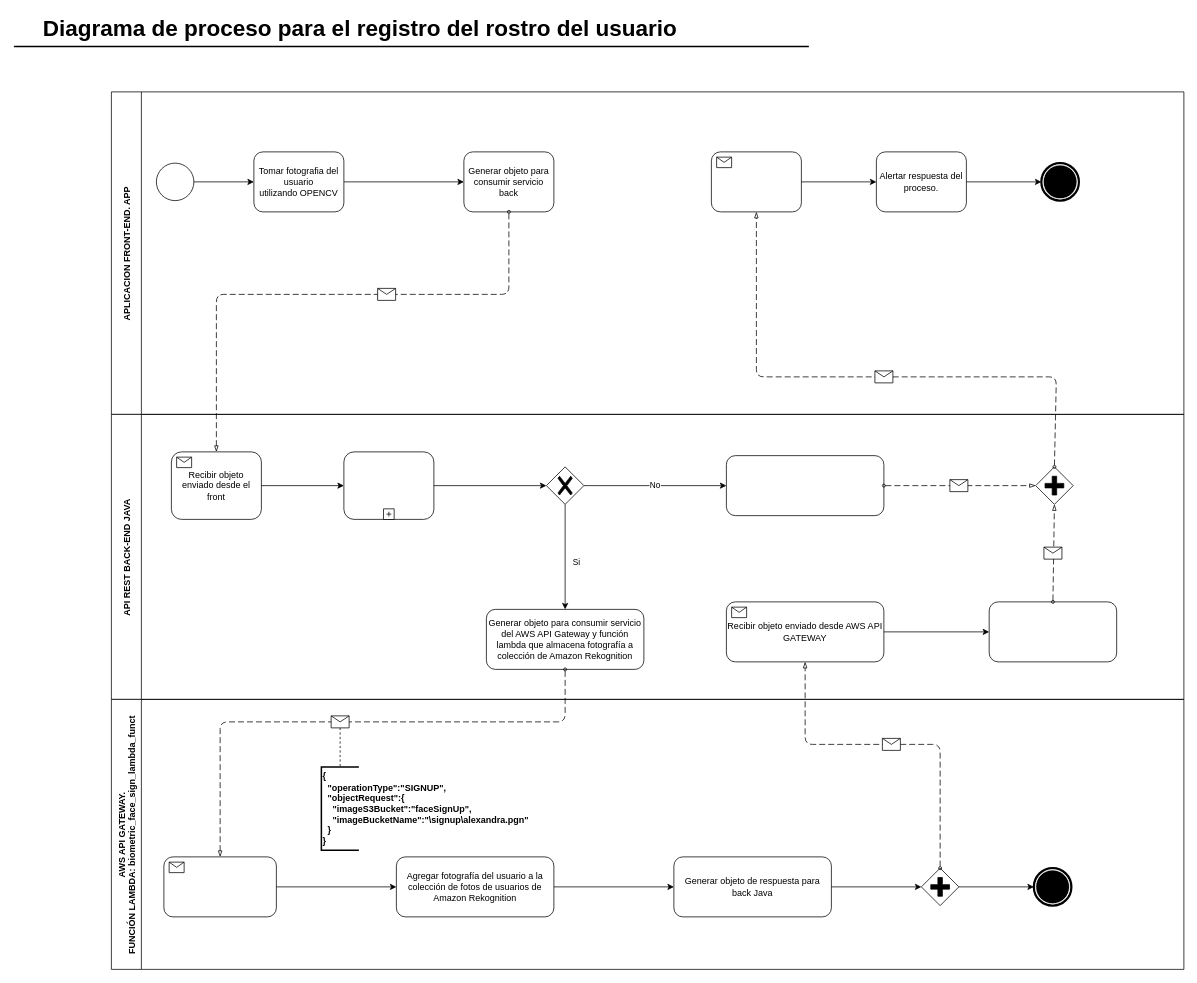
Some shapes in this 1197 by 983 pixel diagram are drawn without their labels. Here are the shapes that lost their labels. From the top down, the centre of each, then its label:
At point (756, 181): "Recibir mensaje de la aplicación BACK".
At point (388, 485): "Cargar fotografia a coleccion de fotos de usuarios en el bucket AWS S3".
At point (565, 485): "Carga exitosa a AWS S3".
At point (805, 485): "Retornar error al cliente notificando falla".
At point (1052, 631): "Generar objeto de respuesta de registro del rostro del usuario al cliente".
At point (219, 886): "Recibir objeto enviado desde el back en Java".
